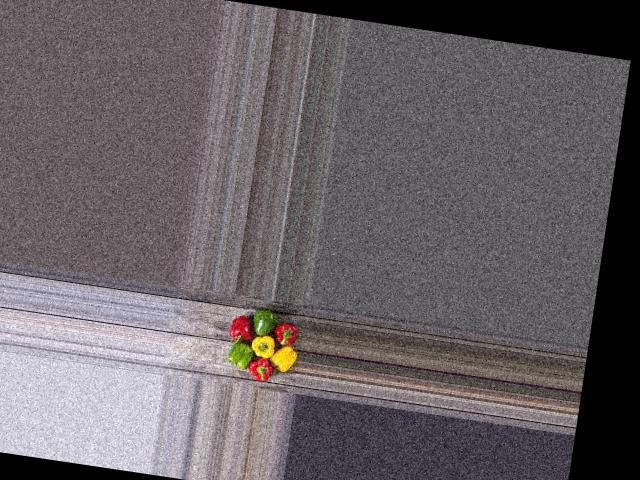bell_pepper: (272, 321, 304, 352)
